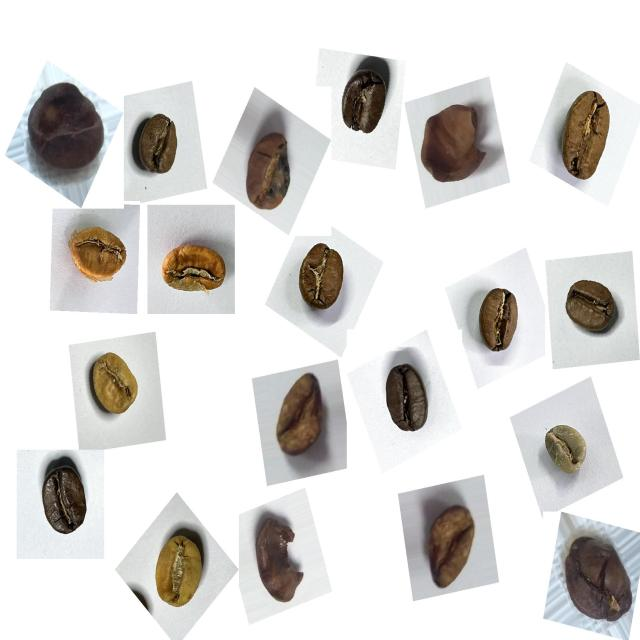bad: (22, 74, 112, 187), (555, 520, 640, 634), (414, 94, 499, 198), (416, 491, 491, 599), (244, 506, 313, 614), (263, 365, 334, 468), (237, 119, 304, 220)
dark: (30, 458, 102, 553), (329, 58, 399, 148), (371, 354, 437, 448)
green: (535, 414, 597, 485)
light: (144, 520, 218, 620), (155, 232, 239, 312), (80, 342, 154, 429), (60, 214, 135, 294)
medium: (544, 82, 627, 195), (288, 238, 355, 324), (467, 279, 532, 364), (556, 270, 626, 346), (128, 107, 192, 187)
